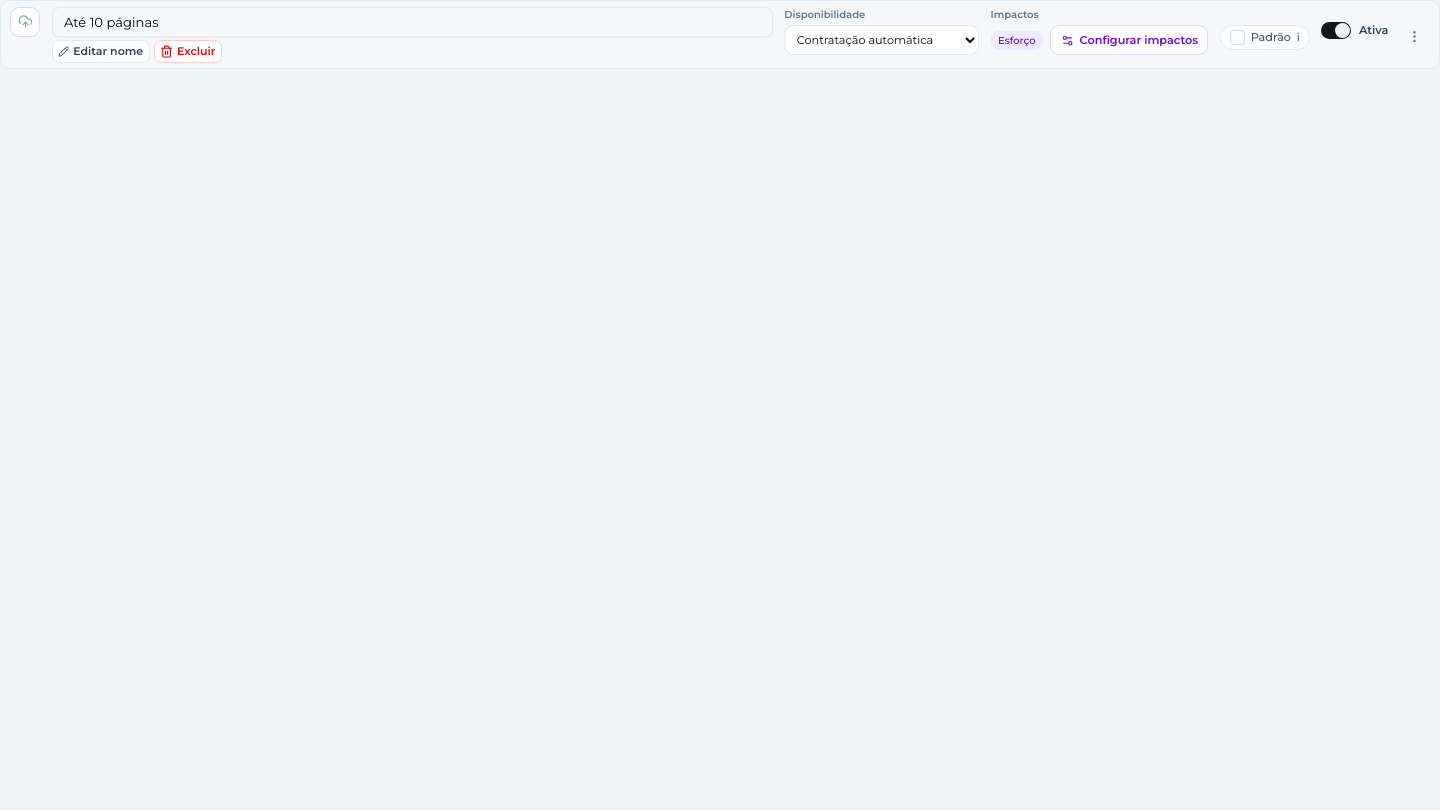
Test: impactos da opção — preço e prazo editáveis a partir do resumo › clicar em Preço escolhe 'Adicionar valor fixo' e explica calculado × informado; com horas extras avisa a cobrança dobrada
Click the button with test id "option-detail-toggle" at point(1129, 40), box [1050, 25, 1208, 55]
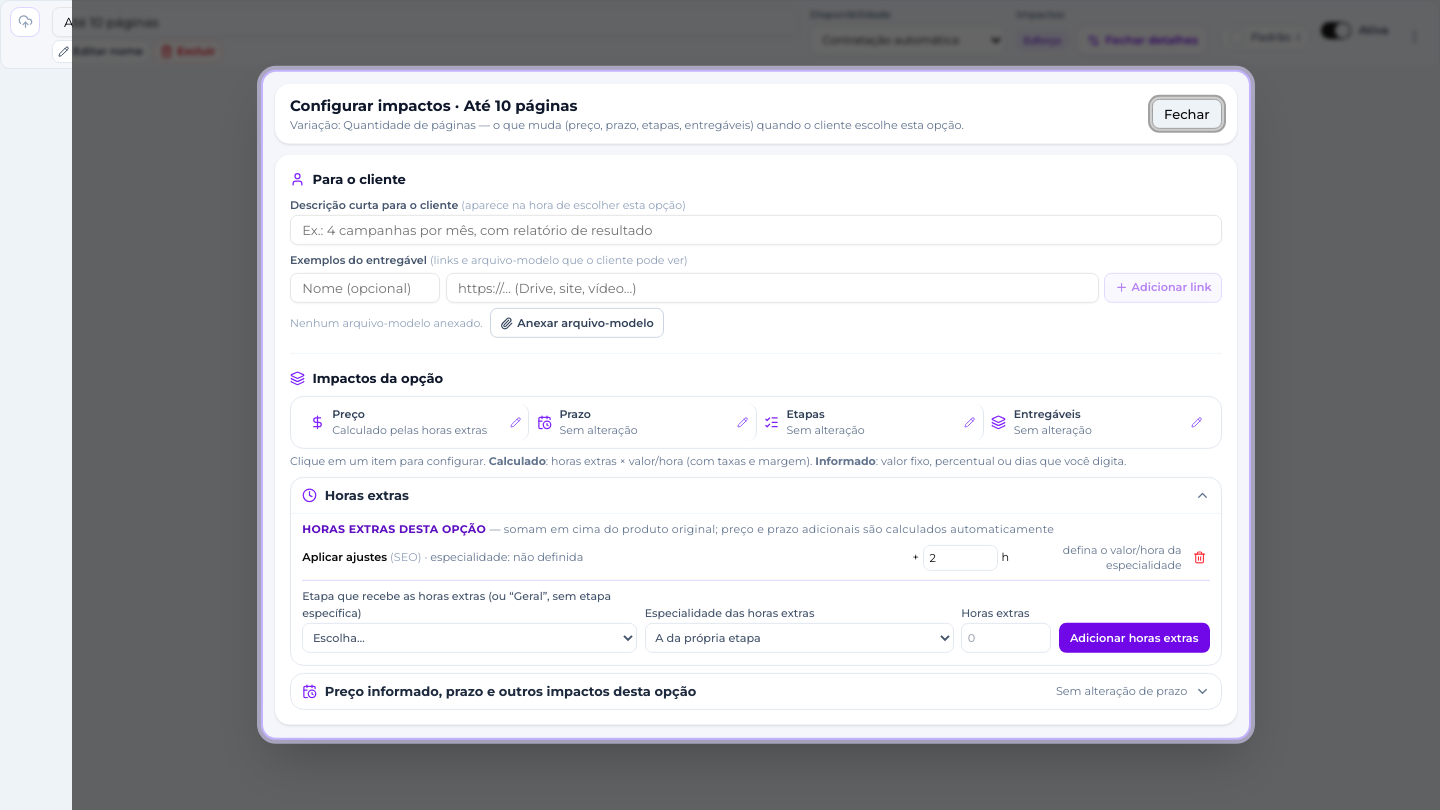
Now the button with test id "impact-pick-price" shows "Calculado pelas horas extras"
Click the button with test id "impact-pick-price" at point(416, 422), box [302, 404, 529, 441]
(page scrolled)
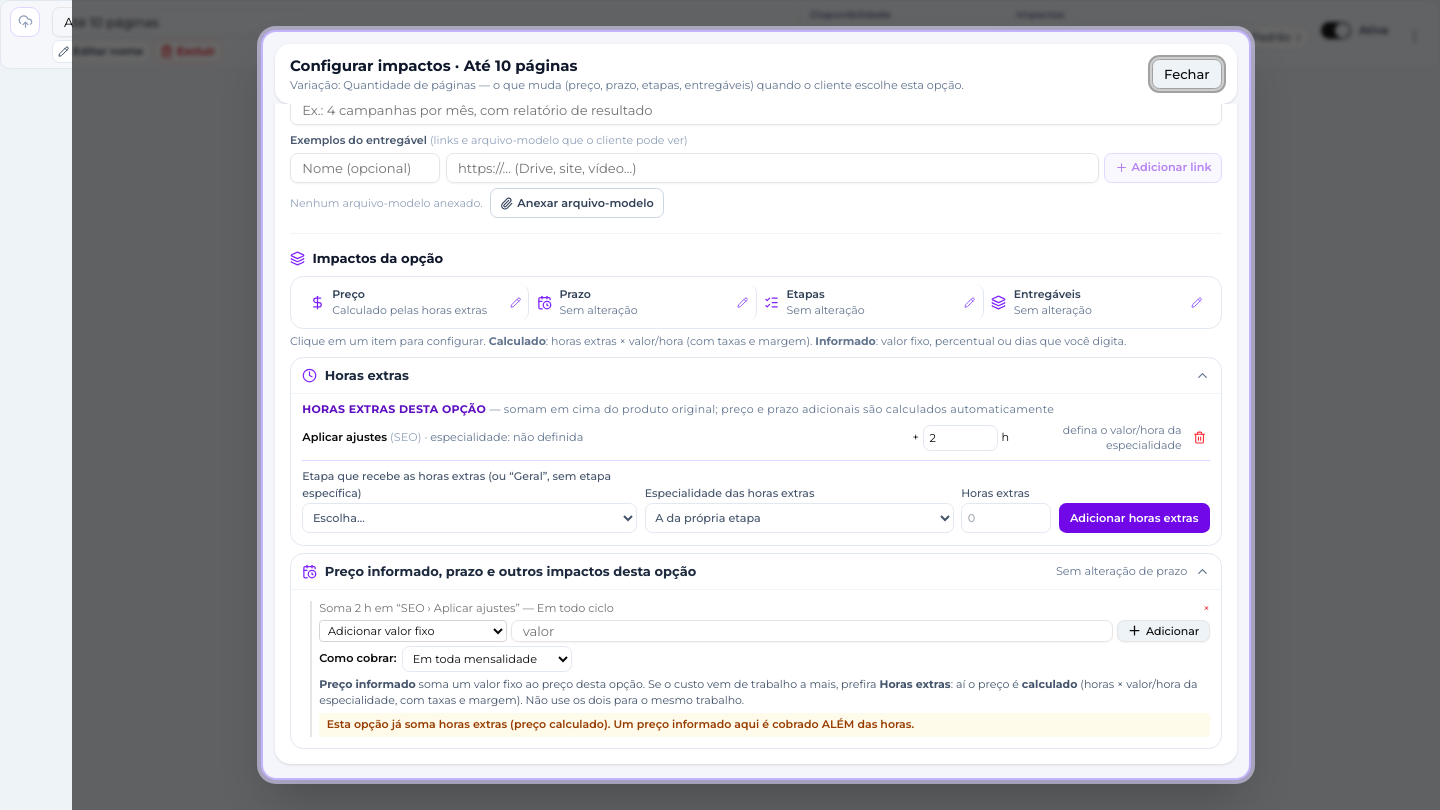
Now the 3rd dropdown shows "Adicionar valor fixo", box [319, 620, 507, 642]
Now the element with test id "price-informed-help" shows "calculado", box [1022, 677, 1077, 691]
Now the text with test id "price-double-charge-warning" is shown, box [319, 713, 1210, 737]
